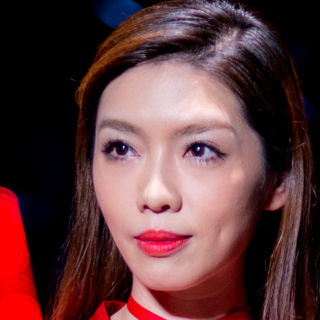eye: (178, 138, 225, 165), (98, 136, 141, 163)
